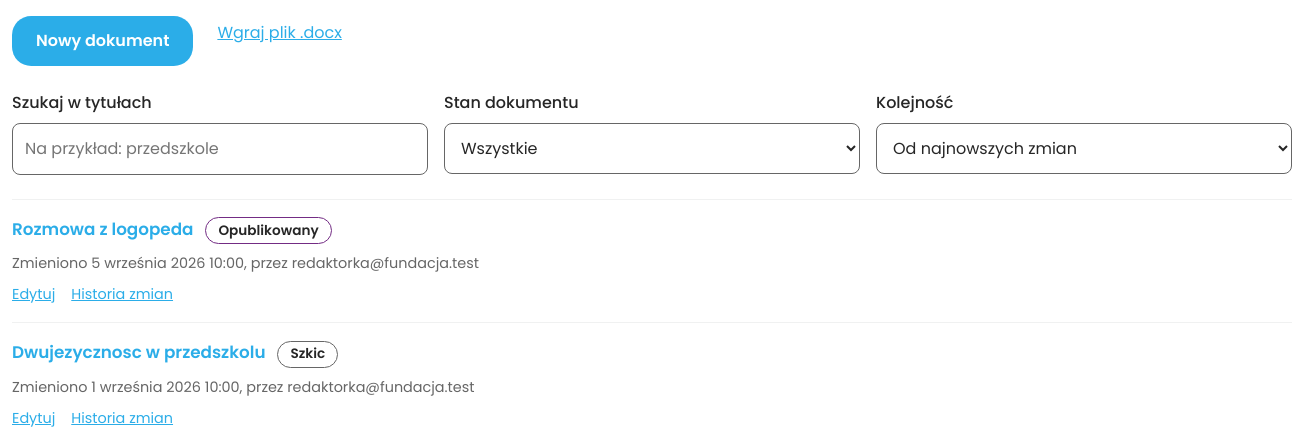
Scenario: DocumentsList › tells a filtered-away list apart from an empty base
Expected: the link "Dwujezycznosc w przedszkolu" is shown, left=12, top=339, right=266, bottom=366
Type "czegos takiego nie ma" into the search field labelled "Szukaj w tytułach" at (220, 149), box left=12, top=123, right=428, bottom=175
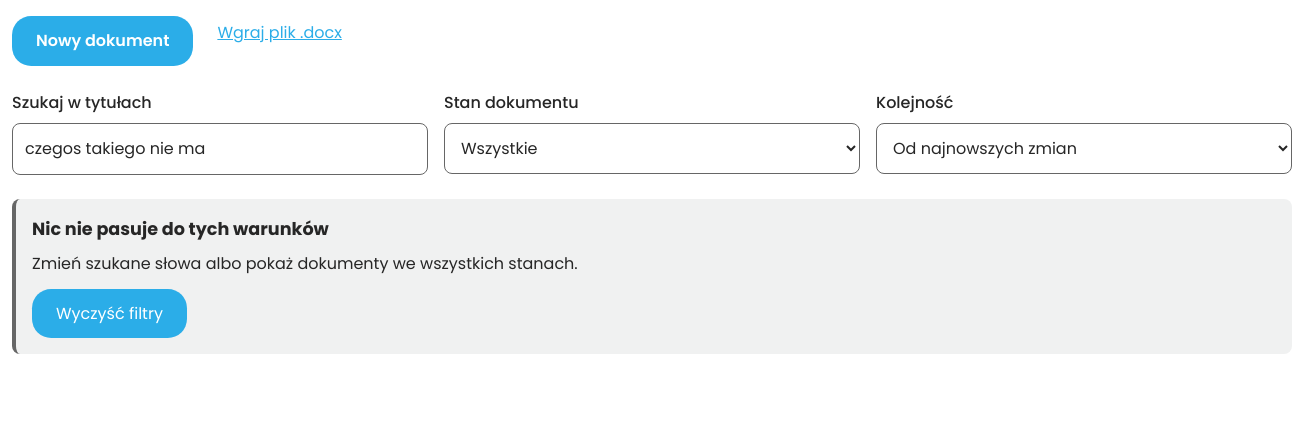
Now the heading "Nic nie pasuje do tych warunków" is shown, box left=32, top=217, right=329, bottom=241
Click the button "Wyczyść filtry" at (109, 313), box left=32, top=288, right=187, bottom=338
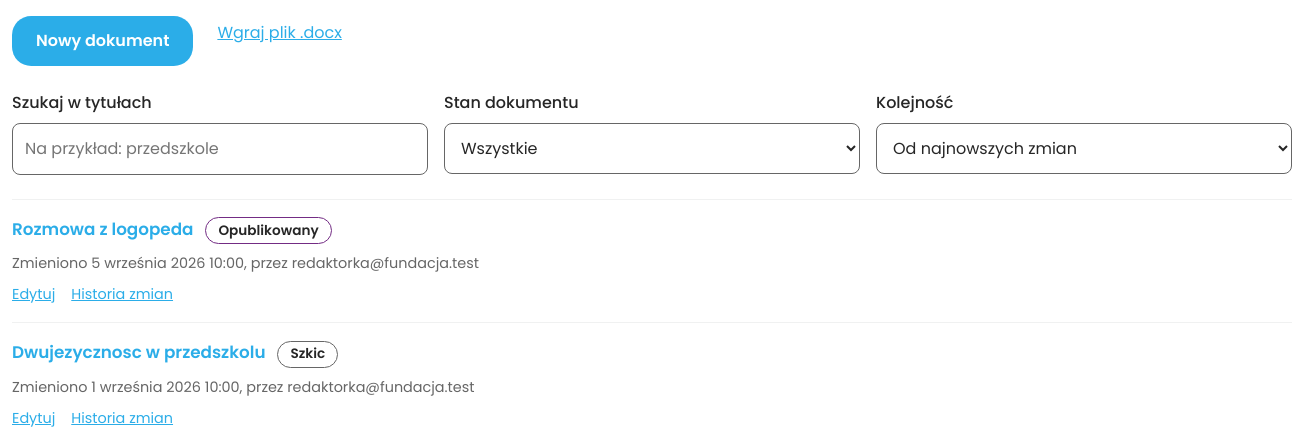
Now the link "Dwujezycznosc w przedszkolu" is shown, box left=12, top=339, right=266, bottom=366
